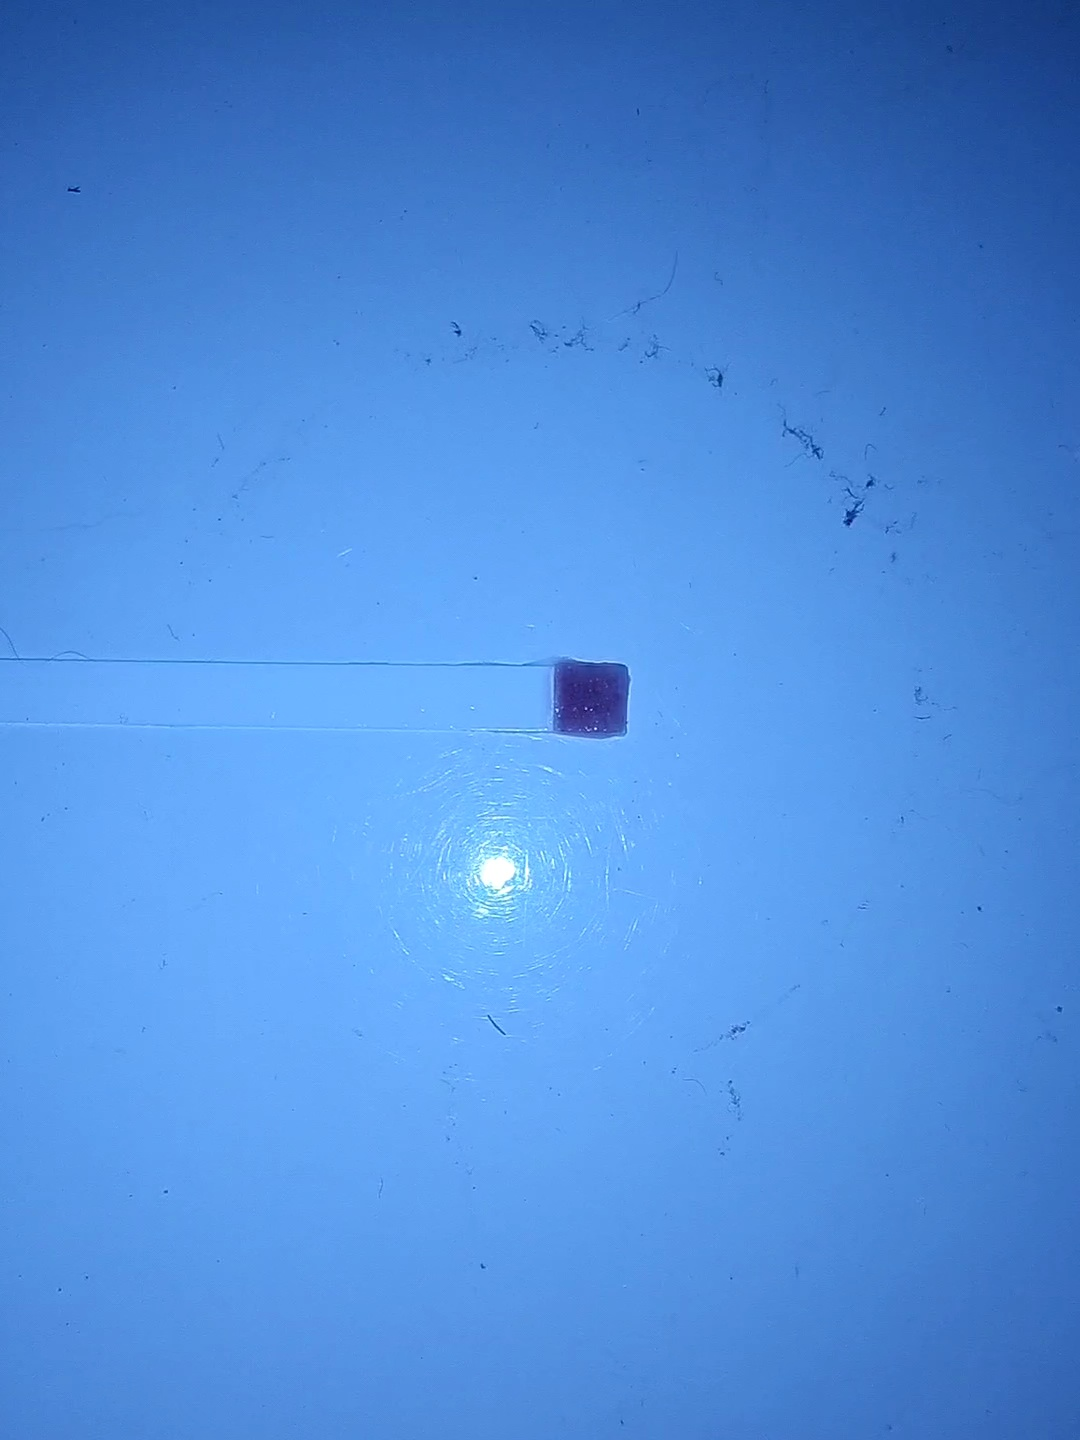keto-tip: (546, 653, 636, 747)
